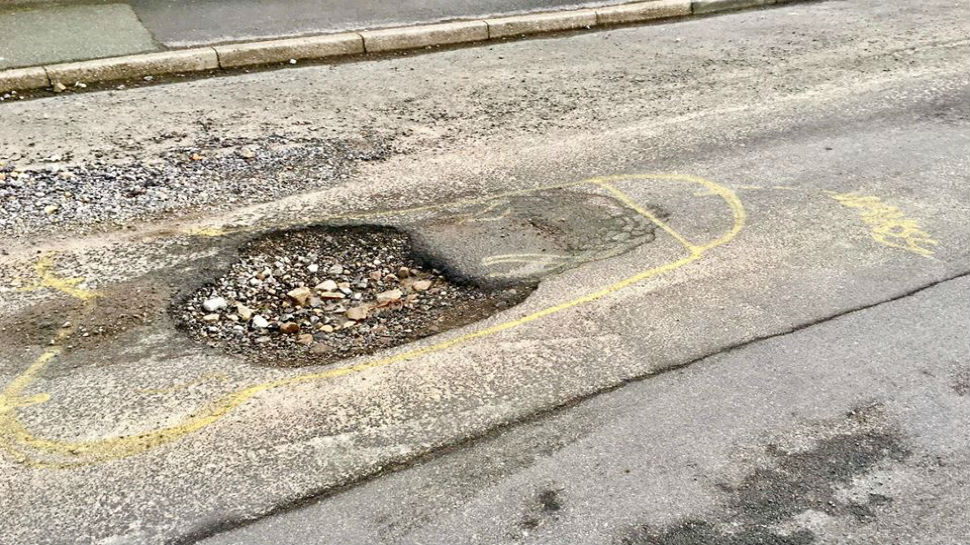pothole: (134, 210, 525, 386)
